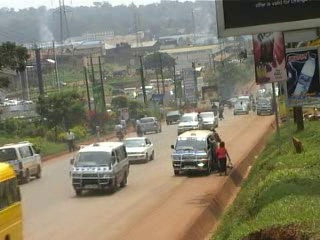Car: (120, 135, 156, 163), (135, 114, 164, 135), (198, 110, 219, 129), (164, 108, 184, 125), (231, 100, 250, 115)
Motorcycle: (114, 120, 128, 144), (208, 102, 218, 119), (249, 98, 257, 113)
